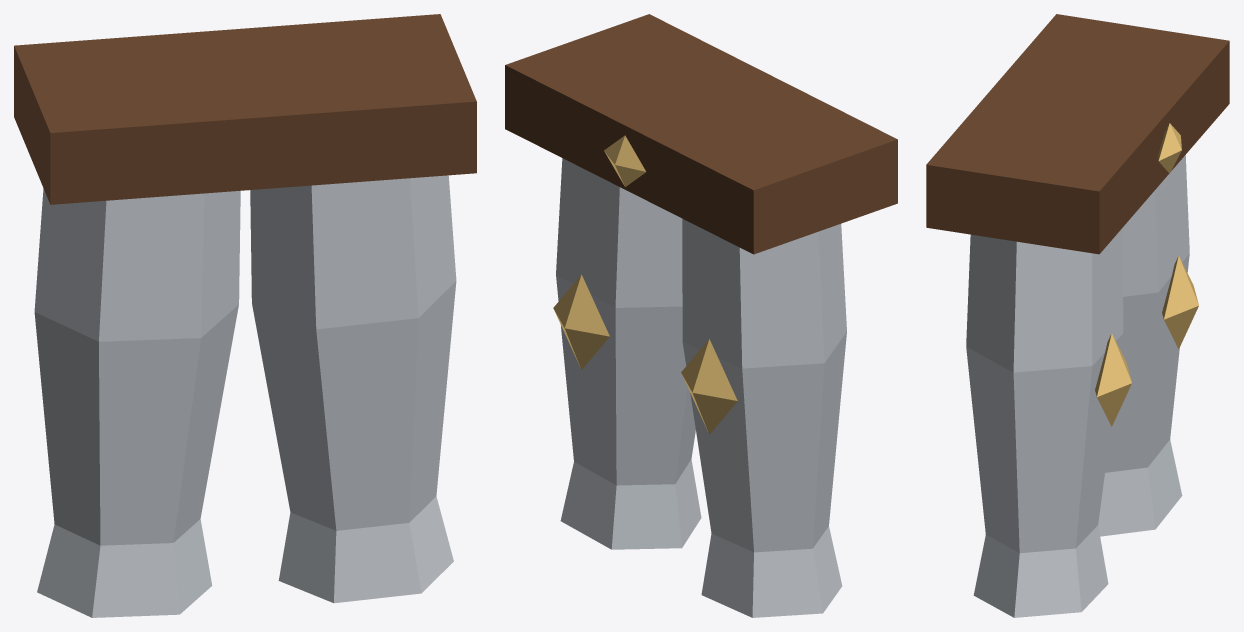
Rendered from Greaves.obj.
3 views of the same model, side by side, from view 1: azimuth 30°, elevation 25°; view 2: azimuth 150°, elevation 25°; view 3: azimuth 270°, elevation 25° (orthographic). The views are drawn at different scales.
Size of the model in its own units: 1.94 by 2.27 by 1.4.
